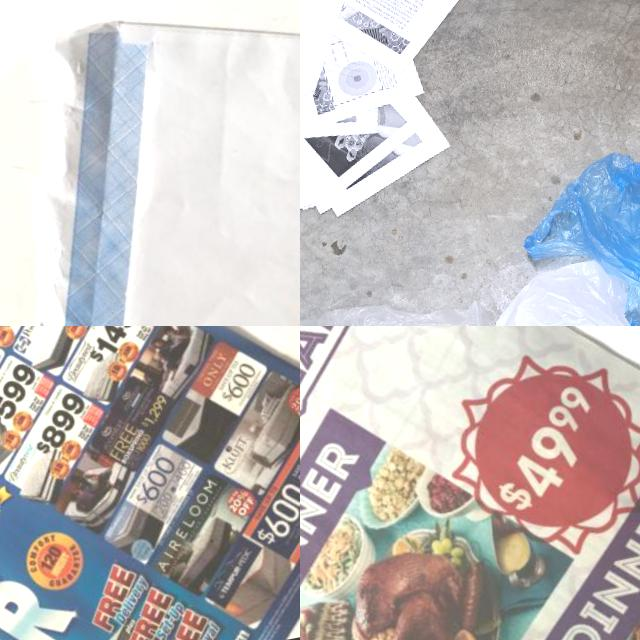papel: (300, 326, 640, 640), (0, 0, 300, 326), (0, 326, 300, 640), (300, 0, 512, 230)
sacola plástica: (510, 126, 640, 326), (468, 243, 640, 326), (300, 279, 527, 326)
